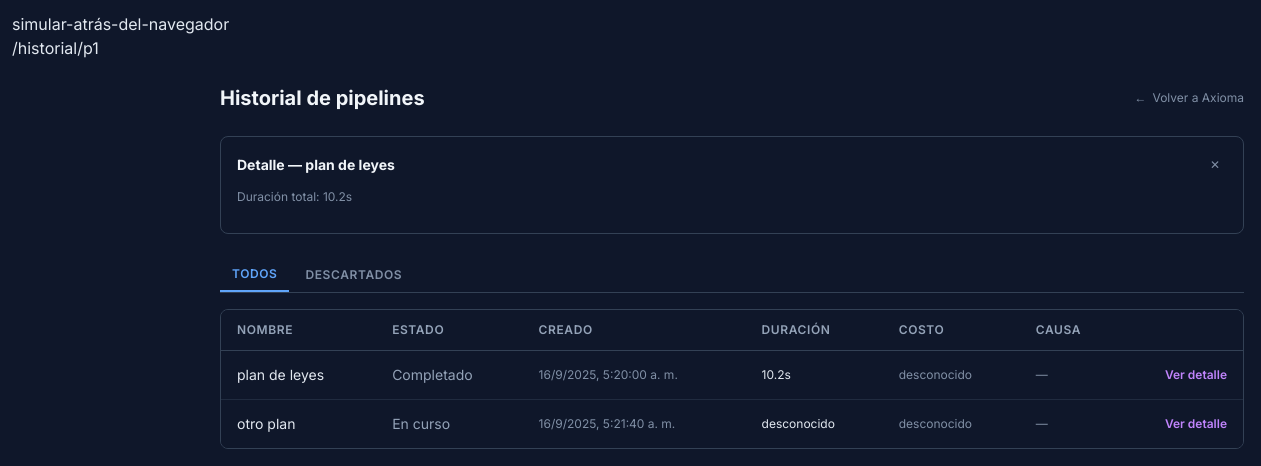
Test: Historial › cerrar el detalle vuelve a /historial sin recargar la lista
Expected: the heading "Detalle — plan de leyes" is shown, [237, 155, 395, 175]
Step 1. Click the button named "Cerrar detalle" → (1215, 165), box [1203, 153, 1227, 177]
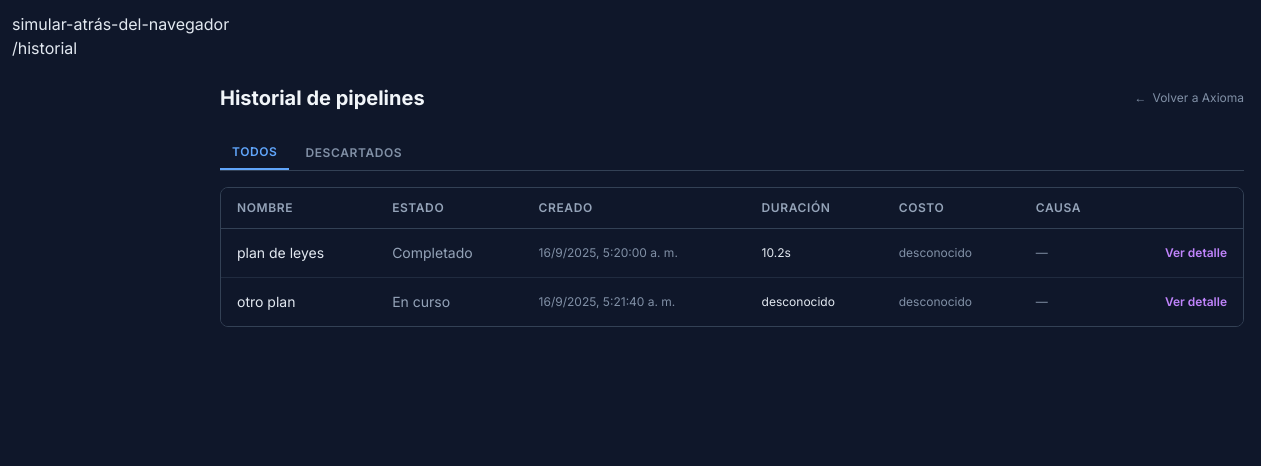
Expected: the text "plan de leyes" is shown, [221, 228, 376, 278]
Expected: the heading "Detalle — plan de leyes" is gone
